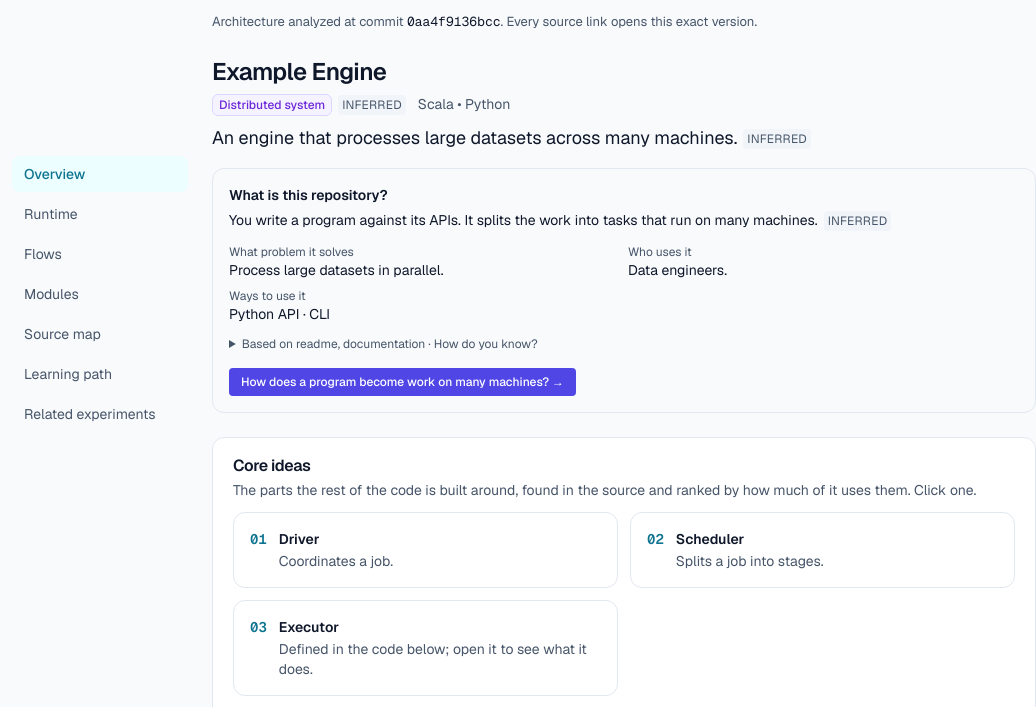
Test: the runtime architecture › puts a reading path on the source map
Click the button with test id "perspective-source" at point(100, 334), box [12, 316, 188, 352]
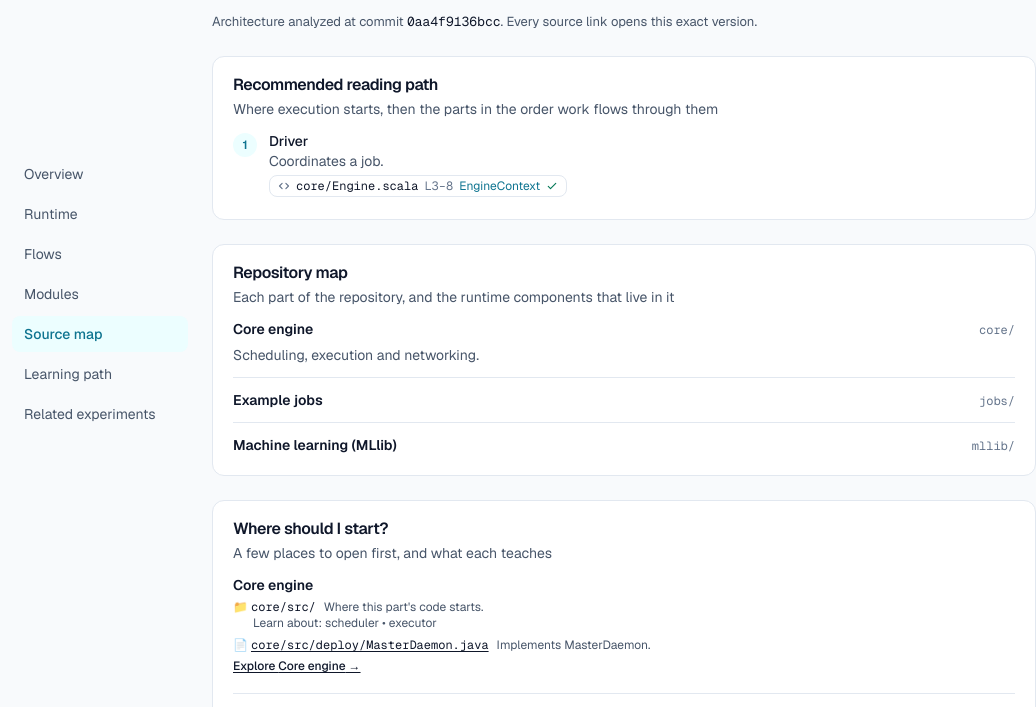
Check: the list with test id "reading-path" shows "Coordinates a job.", box [269, 152, 383, 170]
